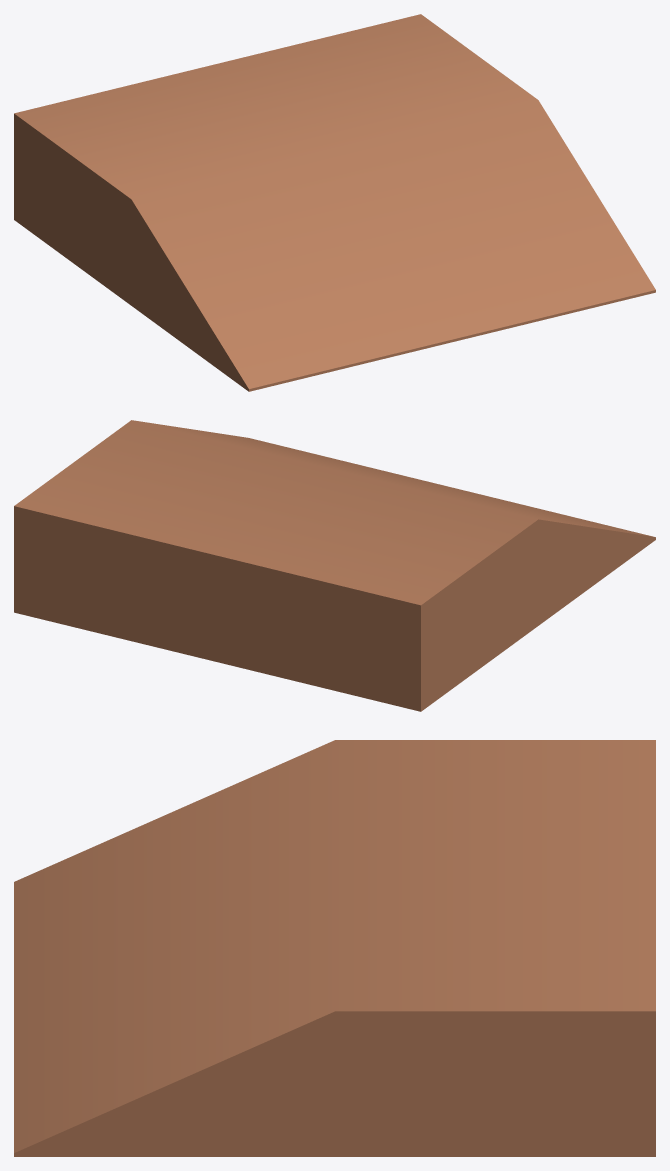
The model's file is uniformedTile-21_col.fbx.
The picture shows the model from 3 angles, top to bottom: view 1: azimuth 30°, elevation 25°; view 2: azimuth 150°, elevation 25°; view 3: azimuth 270°, elevation 25°; orthographic projection. The views are drawn at different scales.
Parts seen in each view (by area): view 1: uniformedTile-21.col; view 2: uniformedTile-21.col; view 3: uniformedTile-21.col.
Boxes of the visible parts, <box> form: uniformedTile-21.col: <box>14,14,655,391</box>; uniformedTile-21.col: <box>14,420,655,711</box>; uniformedTile-21.col: <box>14,740,655,1156</box>.
Size of the model in its own units: 2 by 0.5 by 2.
1 material, 1 textured.
